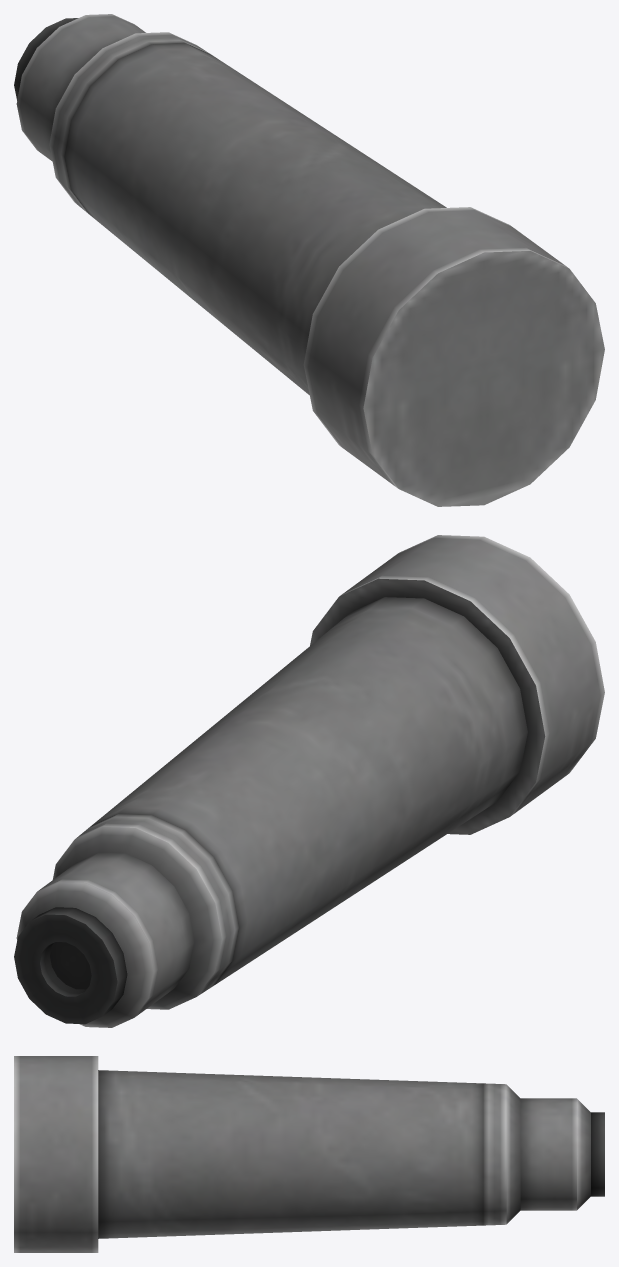
File: sensor_photometer.obj
3 views of the same model, one above another, from view 1: azimuth 30°, elevation 25°; view 2: azimuth 150°, elevation 25°; view 3: azimuth 270°, elevation 25° (orthographic). The views are drawn at different scales.
Parts seen in each view (by area): view 1: 2; view 2: 2; view 3: 2.
Part boxes in pixels (left/top/right/bottom): 2: left=14, top=14, right=604, bottom=506; 2: left=14, top=535, right=604, bottom=1027; 2: left=14, top=1056, right=604, bottom=1252.
Size of the model in its own units: 0.175 by 0.175 by 0.525.
Materials: 1 (1 with a texture image).
